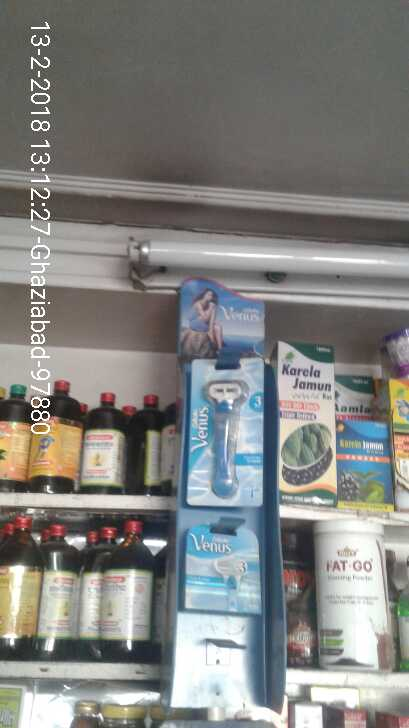venus: (185, 362, 271, 508), (183, 526, 267, 614)
